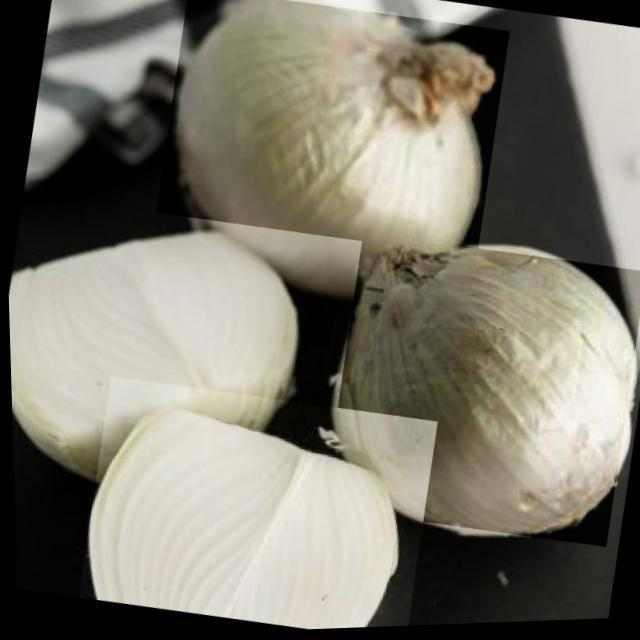Onion: (313, 227, 640, 560), (69, 366, 439, 638), (149, 0, 513, 270), (5, 200, 331, 463)
